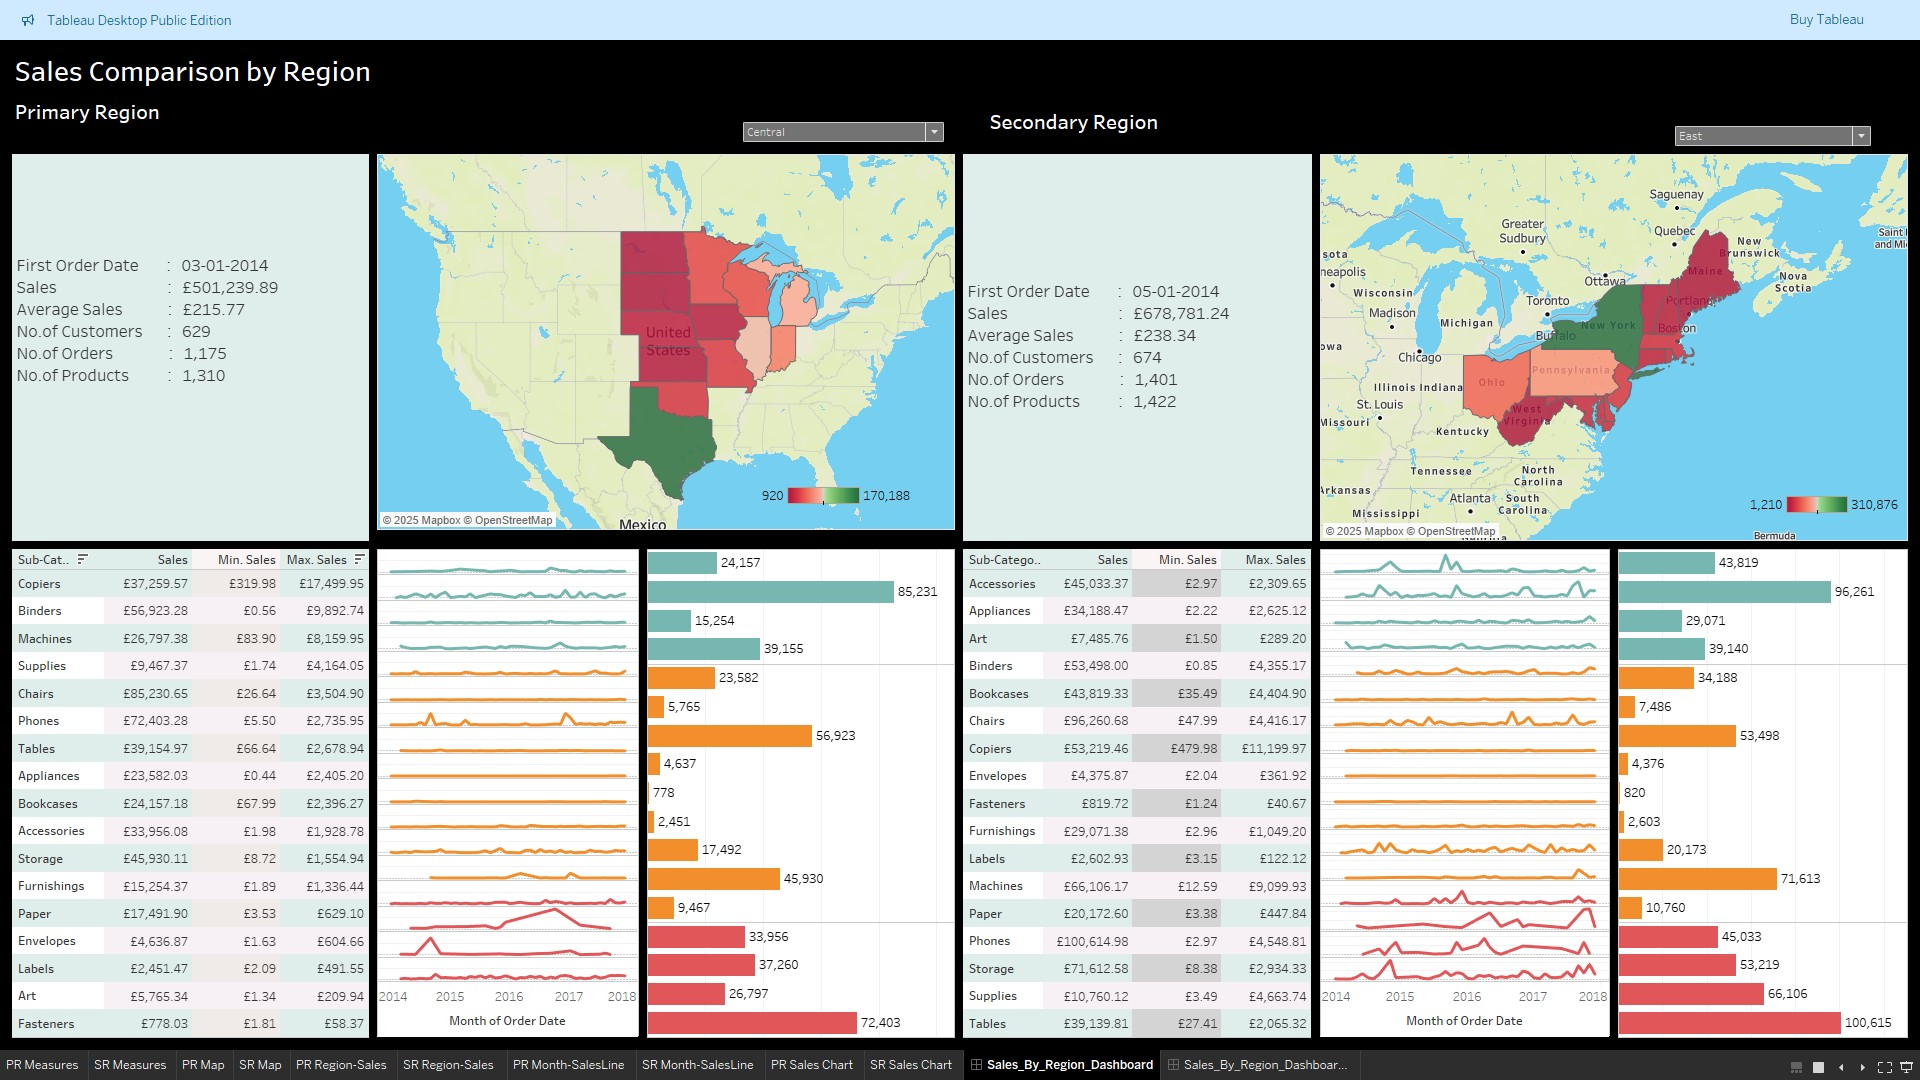

The page's visual inventory and layout, read from the dashboard file:
{"tool":"tableau","page":{"name":"Sales_By_Region_Dashboard","canvas":[1000,1000],"units":"permille","ordinal":0},"visuals":[{"type":"text","box":[4.2,7.9,991.7,44.6]},{"type":"text","box":[4.2,52.5,507.8,35.6]},{"type":"text","box":[511.9,52.5,483.9,56.4]},{"type":"parameter","param":"[Parameters].[Parameter 1]","box":[385.6,78.7,107.7,28.9]},{"type":"parameter","param":"[Parameters].[Parameter 2]","box":[870.7,82.2,105.3,26.6]},{"type":"worksheet","title":"PR Measures","mark":"Automatic","box":[4.2,108.9,190.3,391.1]},{"type":"worksheet","title":"PR Map","mark":"Multipolygon","box":[194.5,108.9,305.1,391.1]},{"type":"worksheet","title":"SR Measures","mark":"Automatic","box":[499.7,108.9,185.8,391.1]},{"type":"worksheet","title":"SR Map","mark":"Multipolygon","box":[685.4,108.9,310.4,391.1]},{"type":"legend","title":"PR Map","param":"[federated.0d5f2gh0hug6kb15dh9nm120wf11].[sum:Sales:qk]","box":[395,438.7,81.9,25.5]},{"type":"legend","title":"SR Map","param":"[federated.0d5f2gh0hug6kb15dh9nm120wf11].[sum:Sales:qk]","box":[909.3,447.9,81.9,39.4]},{"type":"worksheet","title":"PR Region-Sales","mark":"Automatic","rows":["Sub-Category"],"box":[4.2,500,190.3,492.1]},{"type":"worksheet","title":"PR Month-SalesLine","mark":"Line","rows":["Category","Sub-Category","Sales"],"cols":["Order Date"],"box":[194.5,500,140.6,492.1]},{"type":"worksheet","title":"PR Sales Chart","mark":"Automatic","rows":["Category","Sub-Category"],"cols":["Sales"],"box":[335.1,500,164.5,492.1]},{"type":"worksheet","title":"SR Region-Sales ","mark":"Automatic","rows":["Sub-Category"],"box":[499.7,500,185.7,492.1]},{"type":"worksheet","title":"SR Month-SalesLine","mark":"Line","rows":["Category","Sub-Category","Sales"],"cols":["Order Date"],"box":[685.3,500,155.2,492.1]},{"type":"worksheet","title":"SR Sales Chart","mark":"Automatic","rows":["Category","Sub-Category"],"cols":["Sales"],"box":[840.6,500,155.2,492.1]}]}

Visuals, with their boxes on the dashboard's canvas, which has no fixed pixel size, in thousandths of its width and height (x1, y1, x2, y2). These are canvas units, not pixel positions in the 1920x1080 screenshot, which may show the page scaled, cropped or inside an application window:
text: box=[4, 8, 996, 52]
text: box=[4, 52, 512, 88]
text: box=[512, 52, 996, 109]
parameter: box=[386, 79, 493, 108]
parameter: box=[871, 82, 976, 109]
"PR Measures" worksheet: box=[4, 109, 194, 500]
"PR Map" worksheet (Multipolygon marks): box=[194, 109, 500, 500]
"SR Measures" worksheet: box=[500, 109, 686, 500]
"SR Map" worksheet (Multipolygon marks): box=[685, 109, 996, 500]
"PR Map" legend: box=[395, 439, 477, 464]
"SR Map" legend: box=[909, 448, 991, 487]
"PR Region-Sales" worksheet: box=[4, 500, 194, 992]
"PR Month-SalesLine" worksheet (Line marks): box=[194, 500, 335, 992]
"PR Sales Chart" worksheet: box=[335, 500, 500, 992]
"SR Region-Sales " worksheet: box=[500, 500, 685, 992]
"SR Month-SalesLine" worksheet (Line marks): box=[685, 500, 840, 992]
"SR Sales Chart" worksheet: box=[841, 500, 996, 992]
